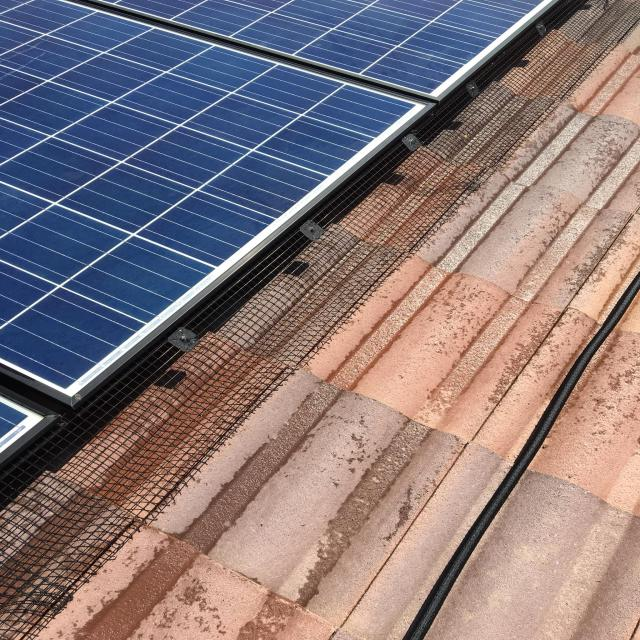clean-solar-panel: (0, 0, 557, 404)
